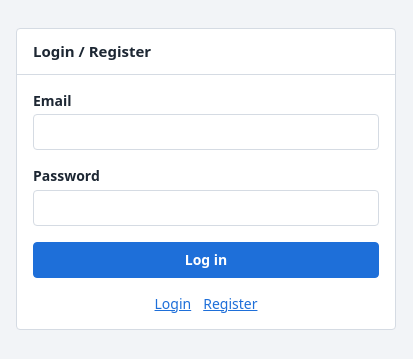
it: LoginPage › shows a field error for an invalid email and sends no request
In the field labelled "Email": (206, 132) [33,114,379,150], type "not-an-email"
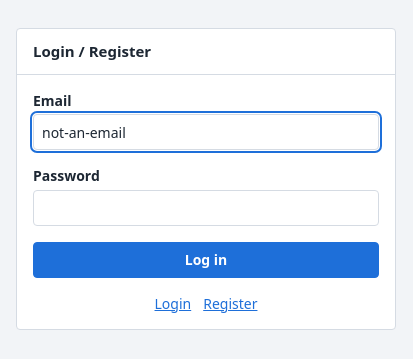
In the password field labelled "Password": (206, 208) [33,190,379,226], type "secret123"
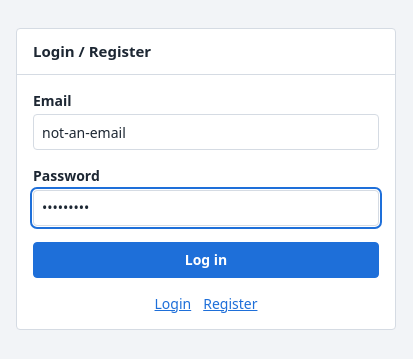
Click the button "Log in": click(206, 260) [33,242,379,278]
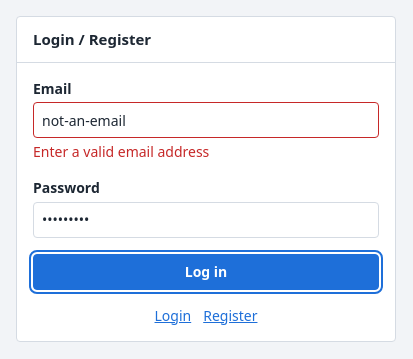
Now the text "Enter a valid email address" is shown, box [33,142,209,161]
